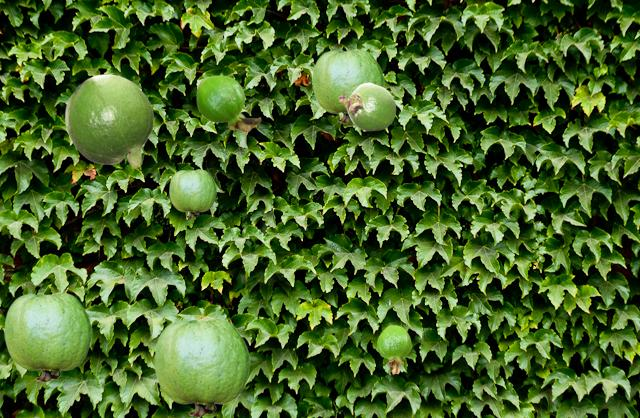guava: (154, 318, 249, 416), (64, 73, 153, 167), (4, 292, 91, 381), (312, 49, 383, 122), (196, 75, 260, 131), (338, 82, 395, 130), (169, 169, 215, 217), (377, 325, 410, 373)
